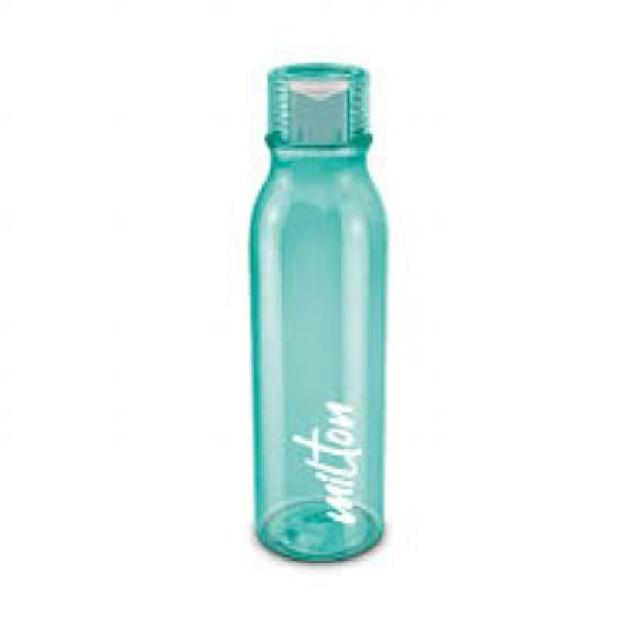Drinking: (235, 49, 397, 572)
